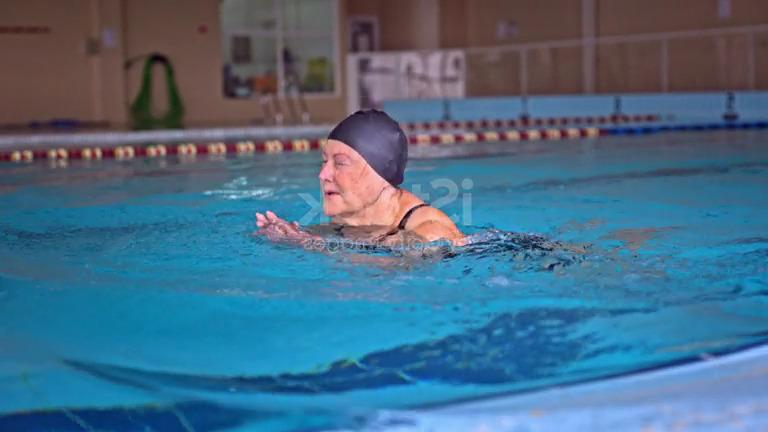Swimming: (203, 70, 643, 284)
